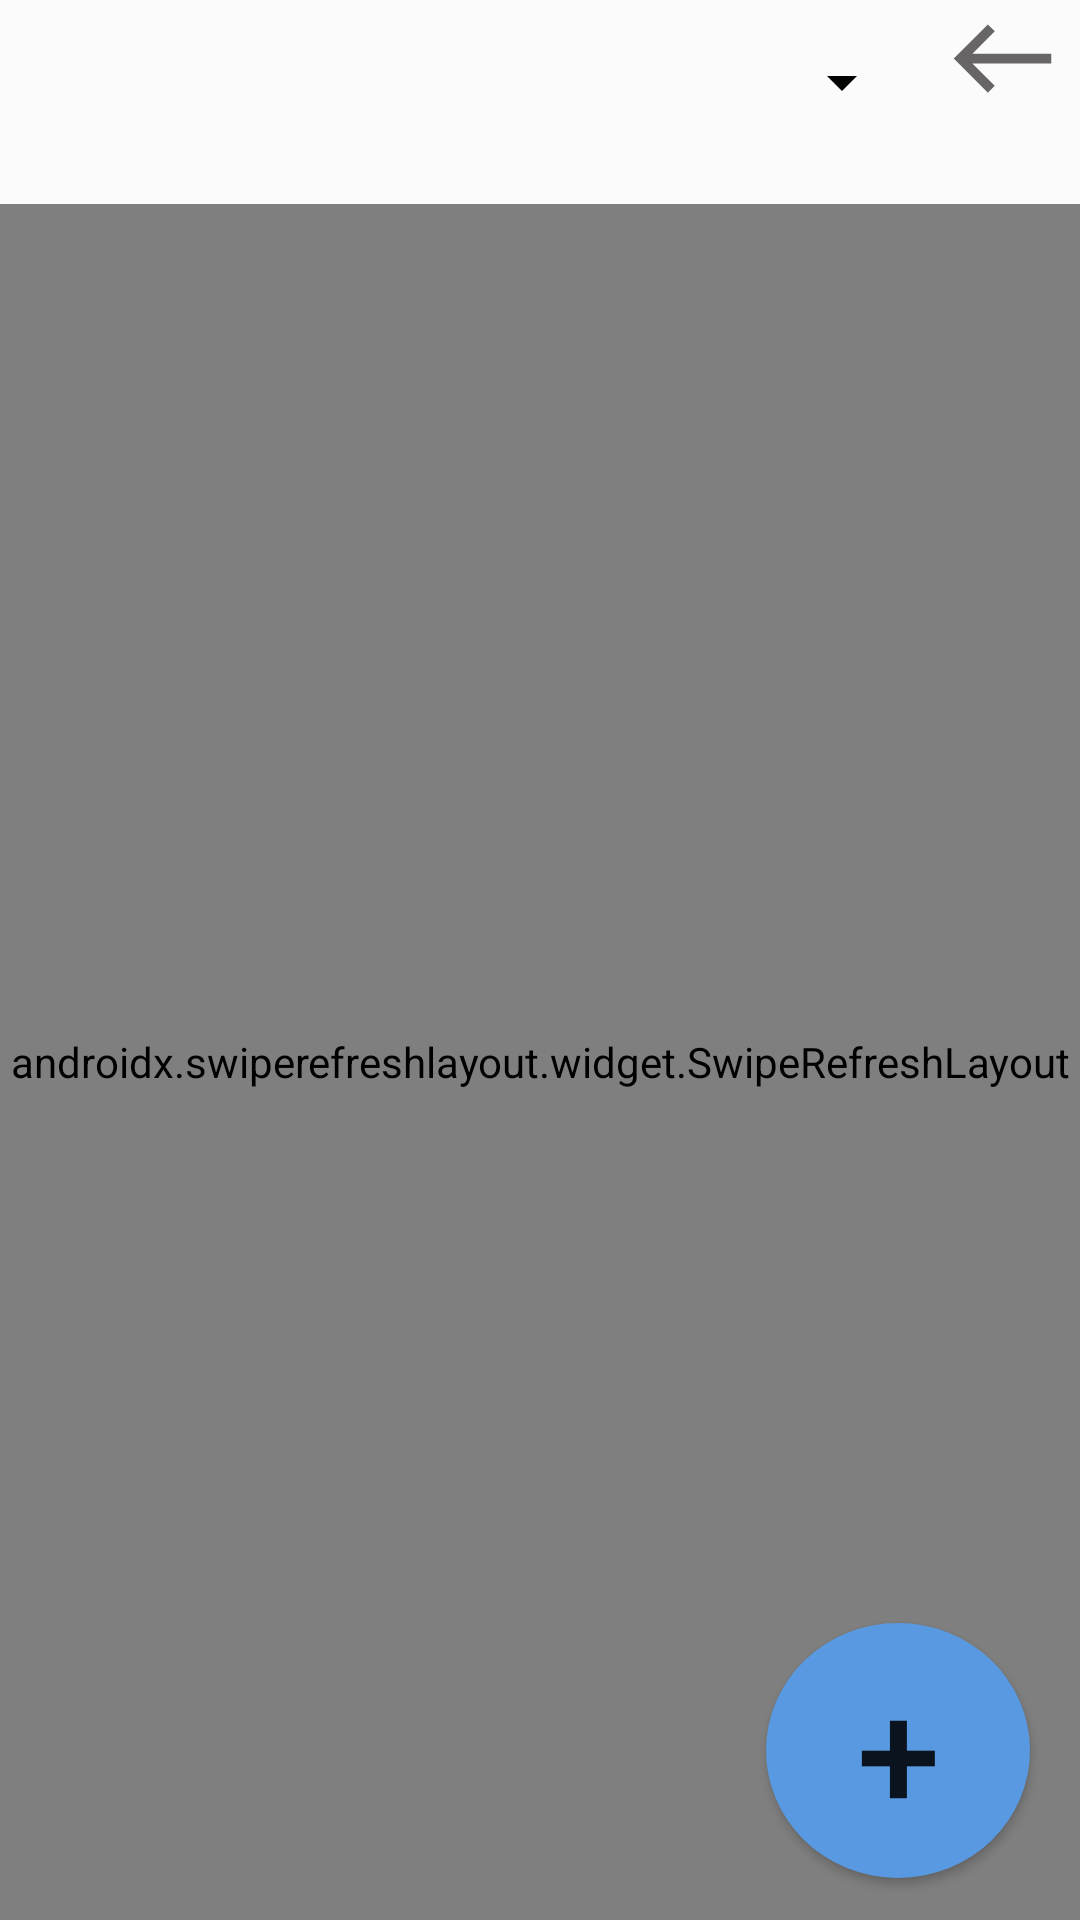

Where icons sit on this 1080×1920 app screen, as [x1=x1, y1=y1, x2=x2, y2=y2]:
previous: [x1=954, y1=24, x2=1052, y2=93]
